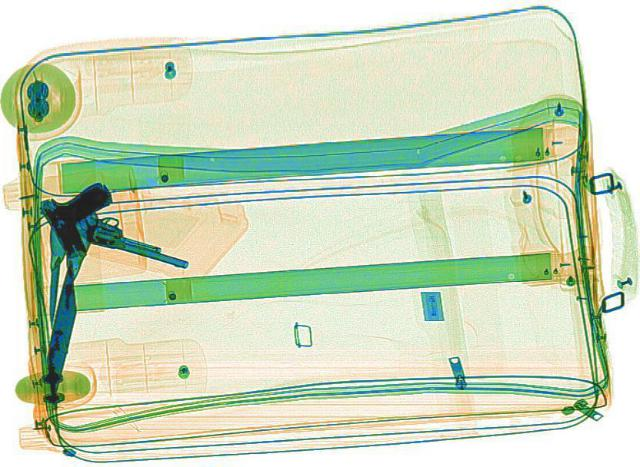Gun: (67, 197, 211, 270), (33, 181, 137, 258)
Knife: (30, 209, 116, 384)
